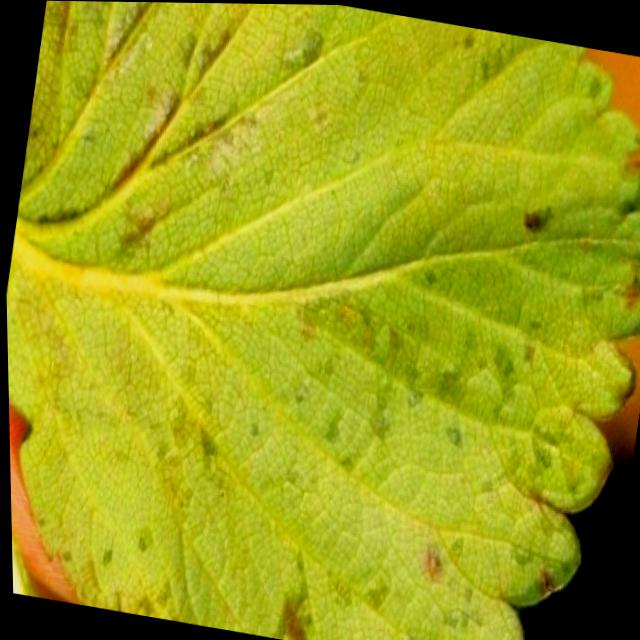Angular Leafspot: (5, 1, 640, 640)
